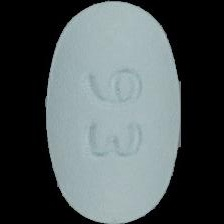54868-4388: (0, 0, 224, 224)
